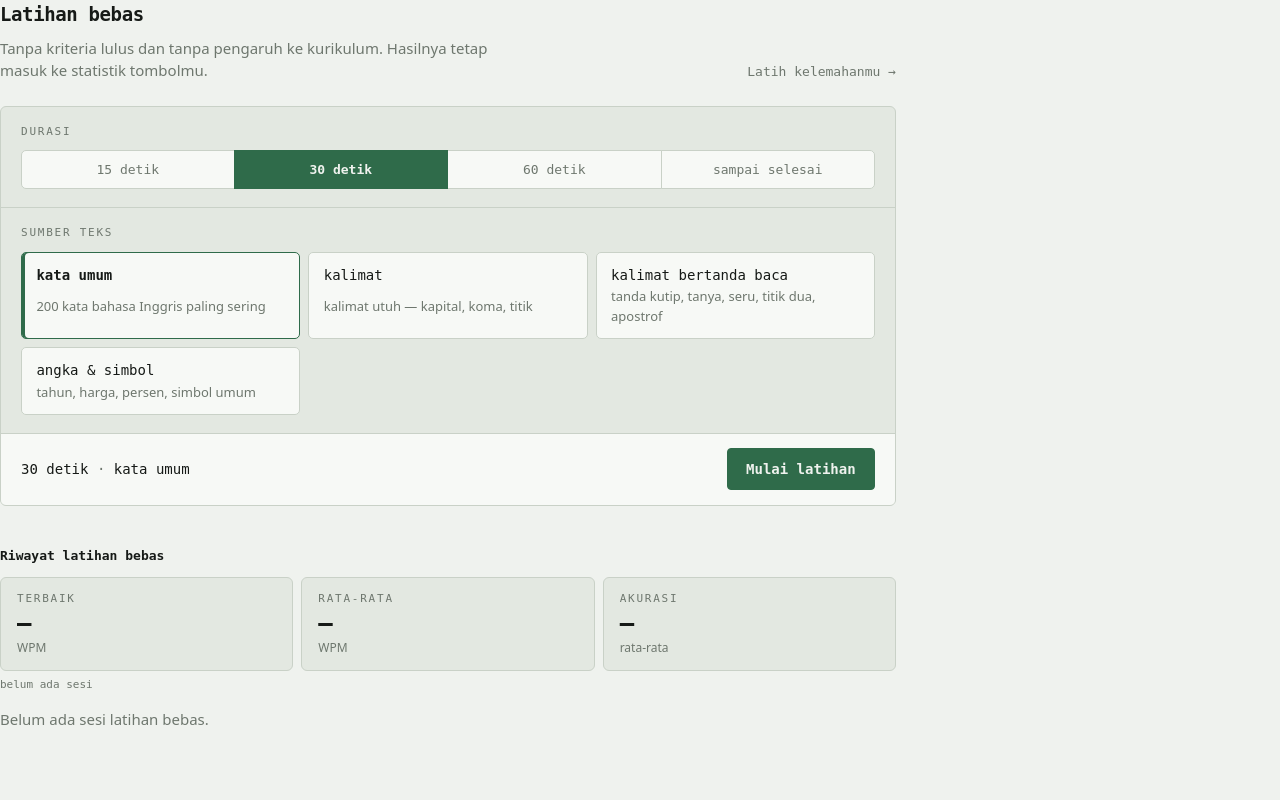
Scenario: hasil latihan bebas › muncul di riwayat setelah kembali ke pilihan
Click the button "15 detik": click(128, 170) [21, 150, 234, 189]
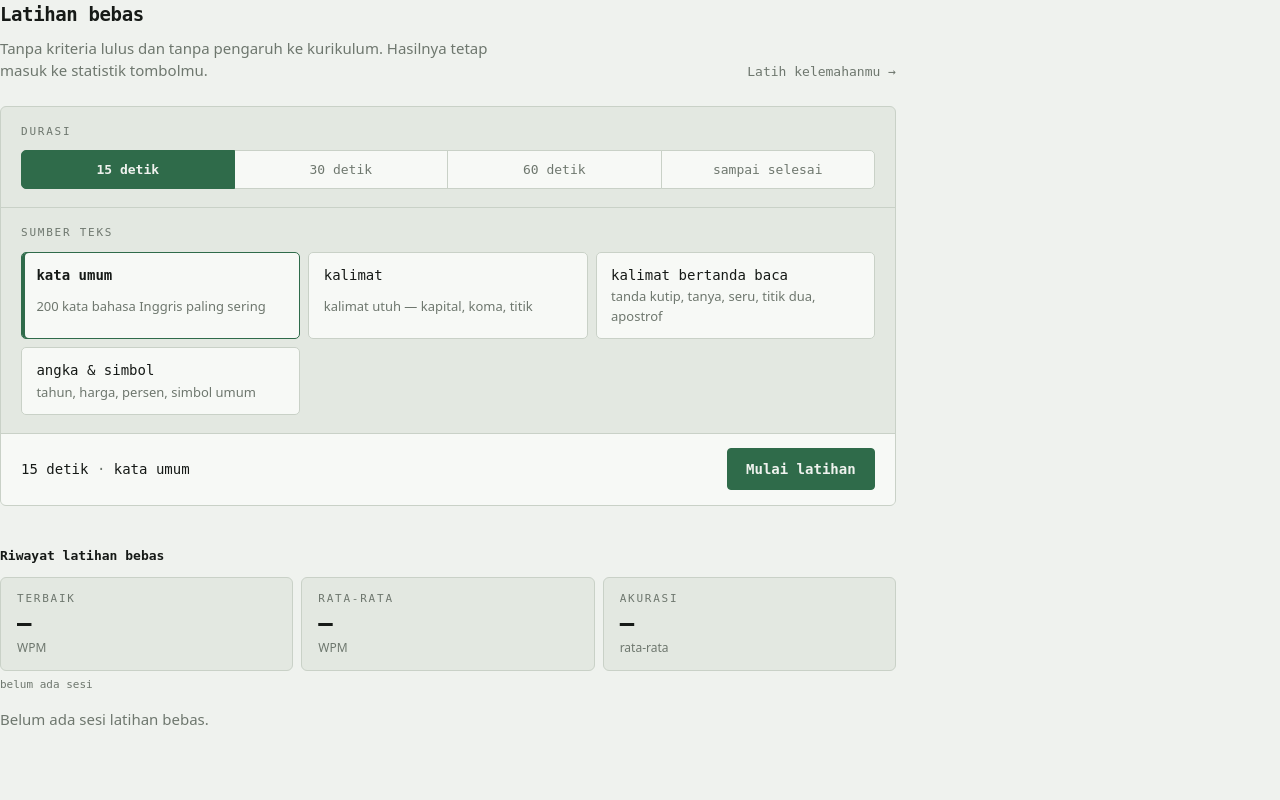
Click the button "Mulai latihan": click(801, 469) [727, 448, 875, 490]
Wait 17010 ms
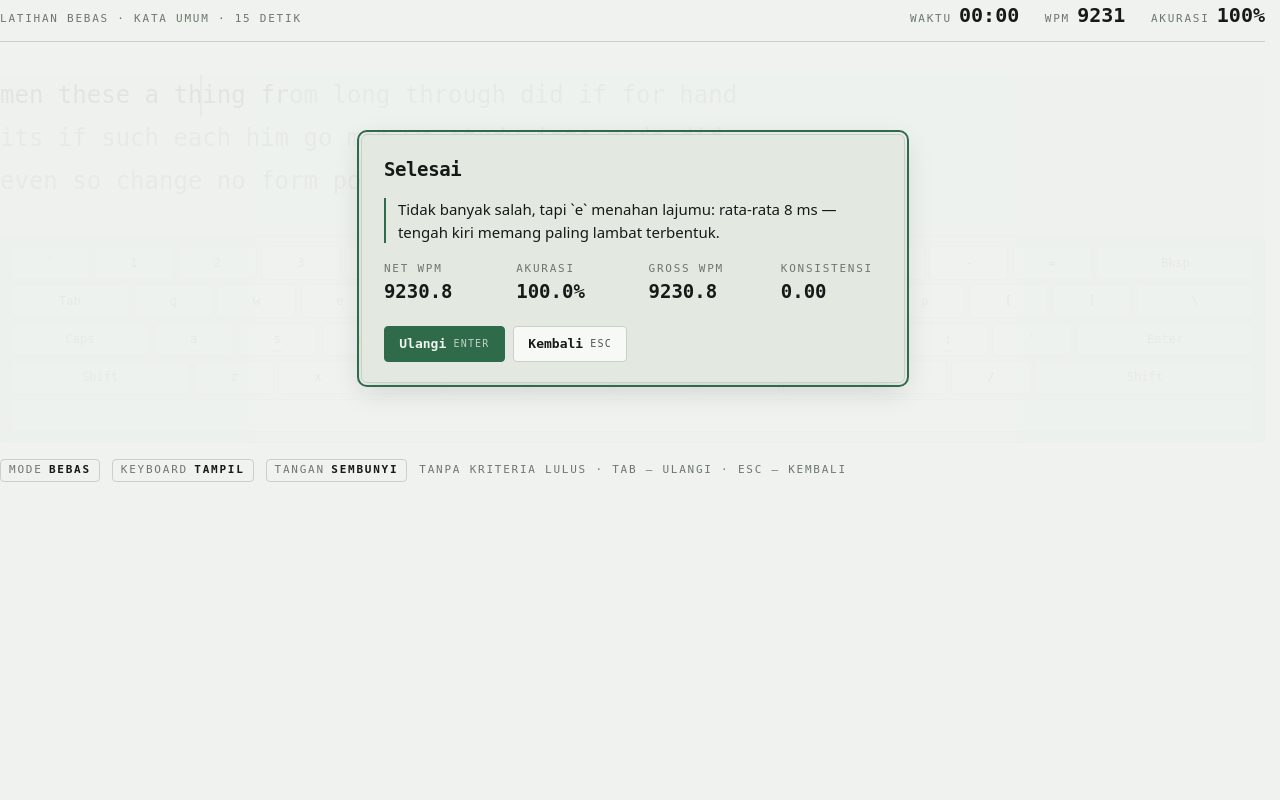
Click the button "Kembali Esc": click(570, 344) [513, 326, 627, 362]
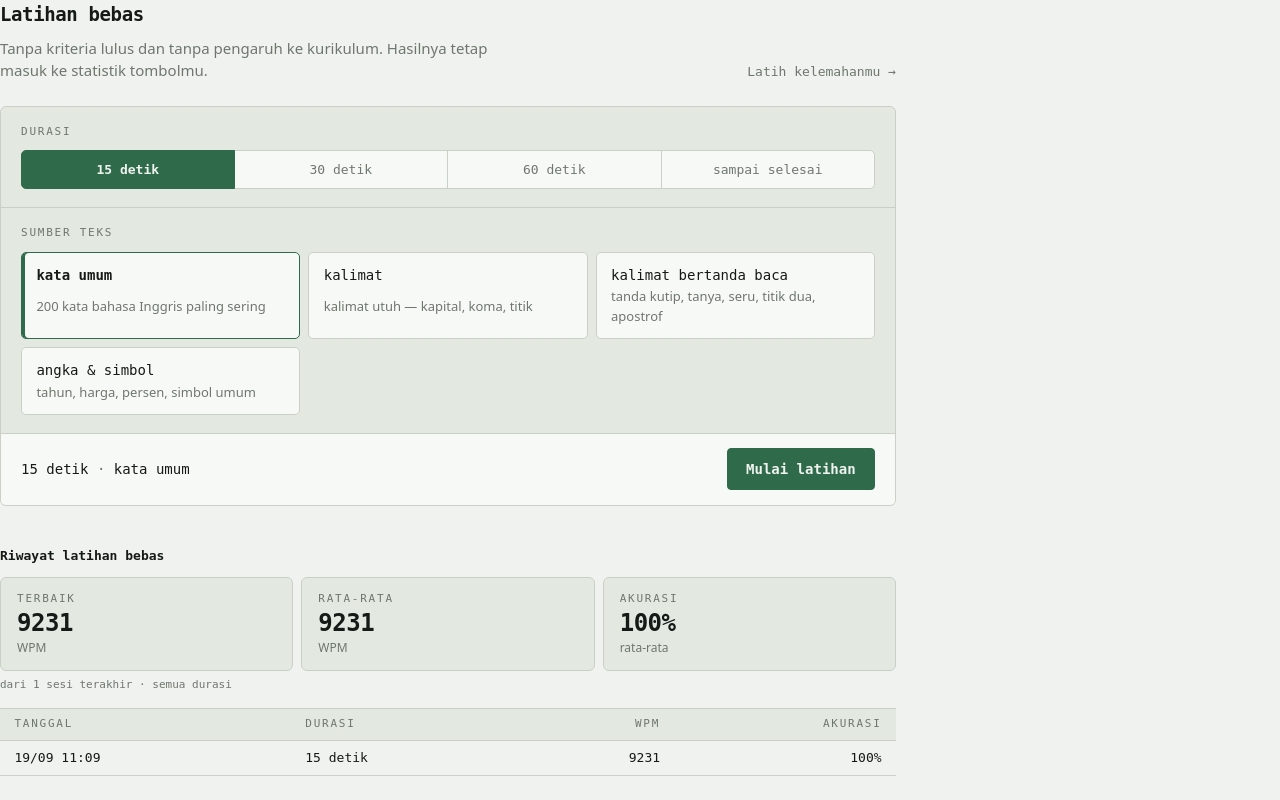
Expected: the table is shown, [0, 708, 896, 776]
Expected: the number of rows is 2, [0, 708, 896, 740]; [0, 740, 896, 775]
